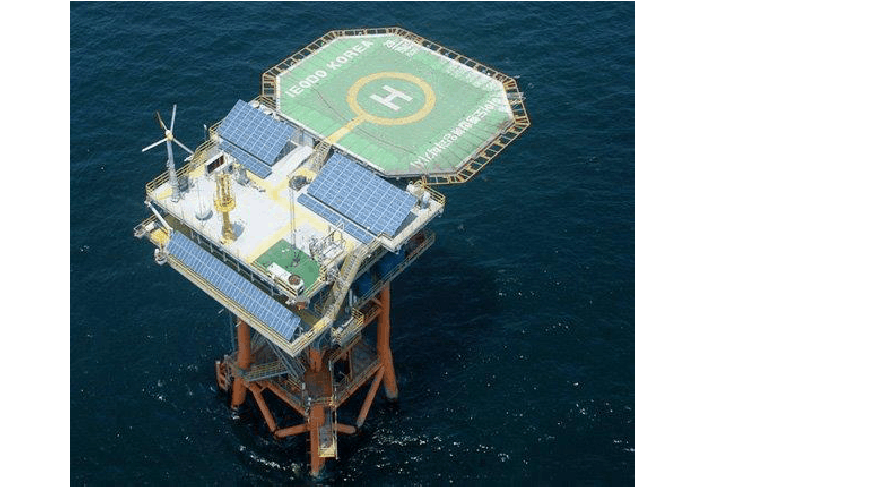Apron: (349, 71, 436, 126)
